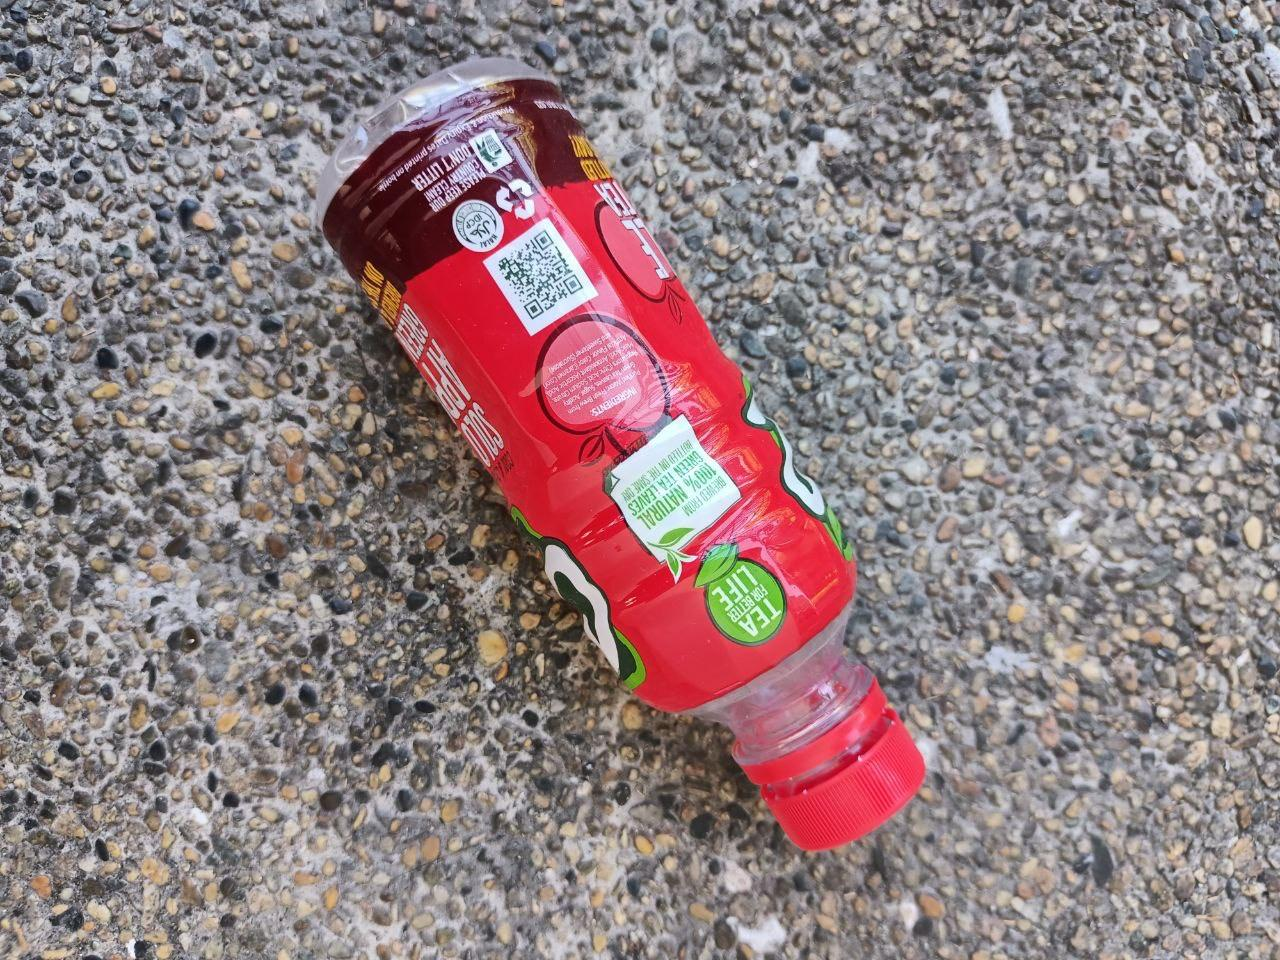plastic: (296, 39, 979, 879)
